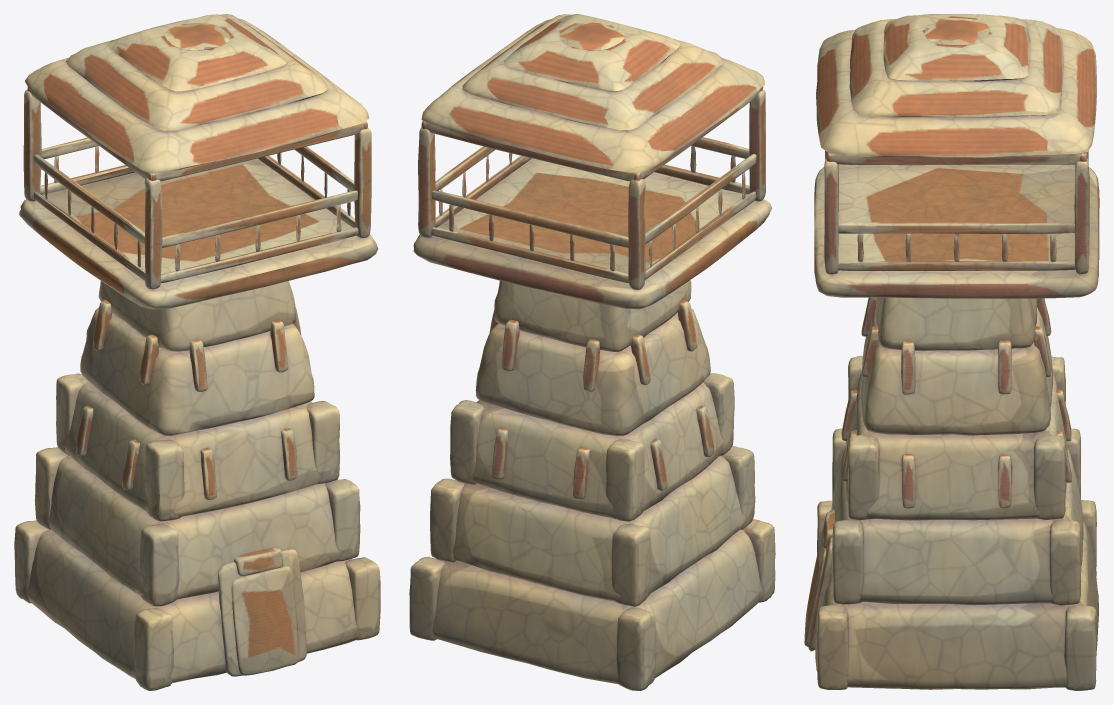
The model's file is A02_Watchtower.fbx.
3 views of the same model, side by side, from view 1: azimuth 30°, elevation 25°; view 2: azimuth 150°, elevation 25°; view 3: azimuth 270°, elevation 25° (orthographic). The views are drawn at different scales.
Parts seen in each view (by area): view 1: A02_Watchtower; view 2: A02_Watchtower; view 3: A02_Watchtower.
Boxes of the visible parts, x1,y1,x2,y2 form: A02_Watchtower: (14, 14, 380, 690); A02_Watchtower: (409, 14, 775, 690); A02_Watchtower: (804, 14, 1099, 690).
Size of the model in its own units: 3 by 7 by 3.09.
